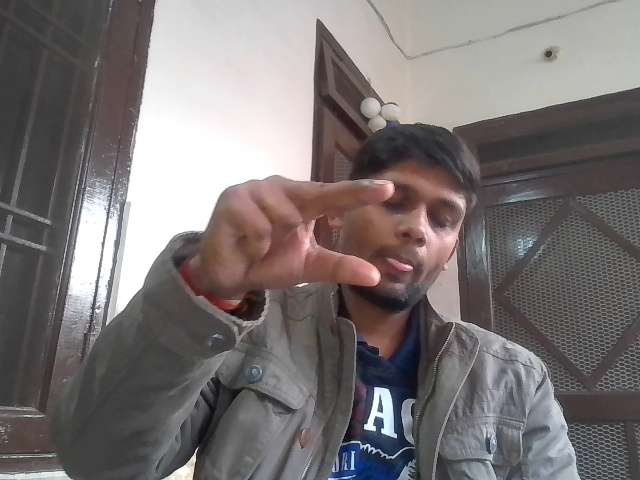No: (190, 162, 417, 314)
